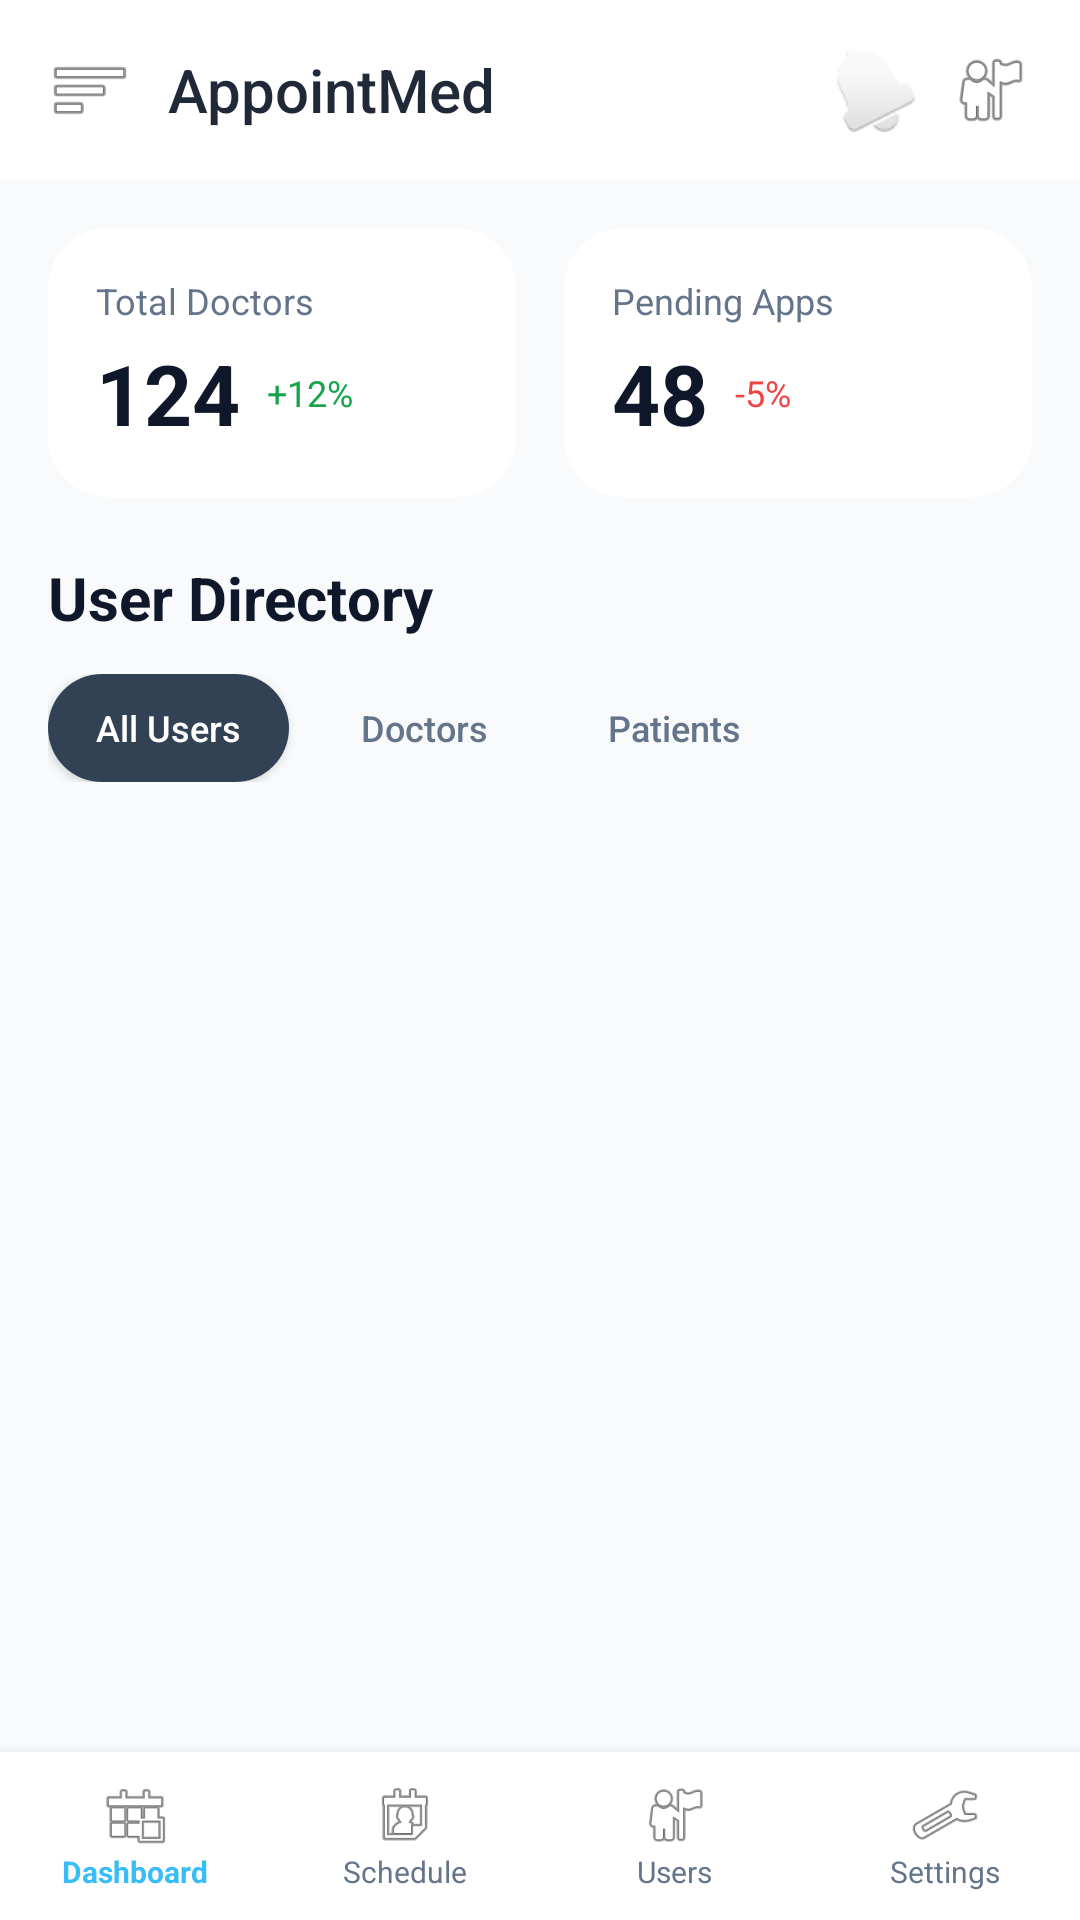

Icons on this 1080 × 1920 Android screen, each with the point to tap as [x,y]:
Account: [991,90]
Menu: [90,90]
